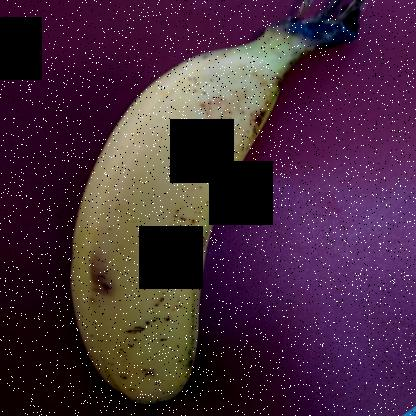ripe: (61, 26, 342, 404)
